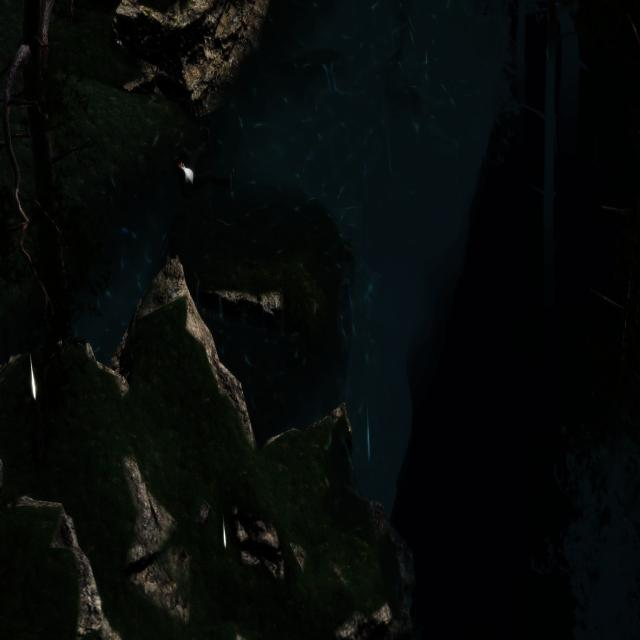Human: (173, 114, 238, 200)
